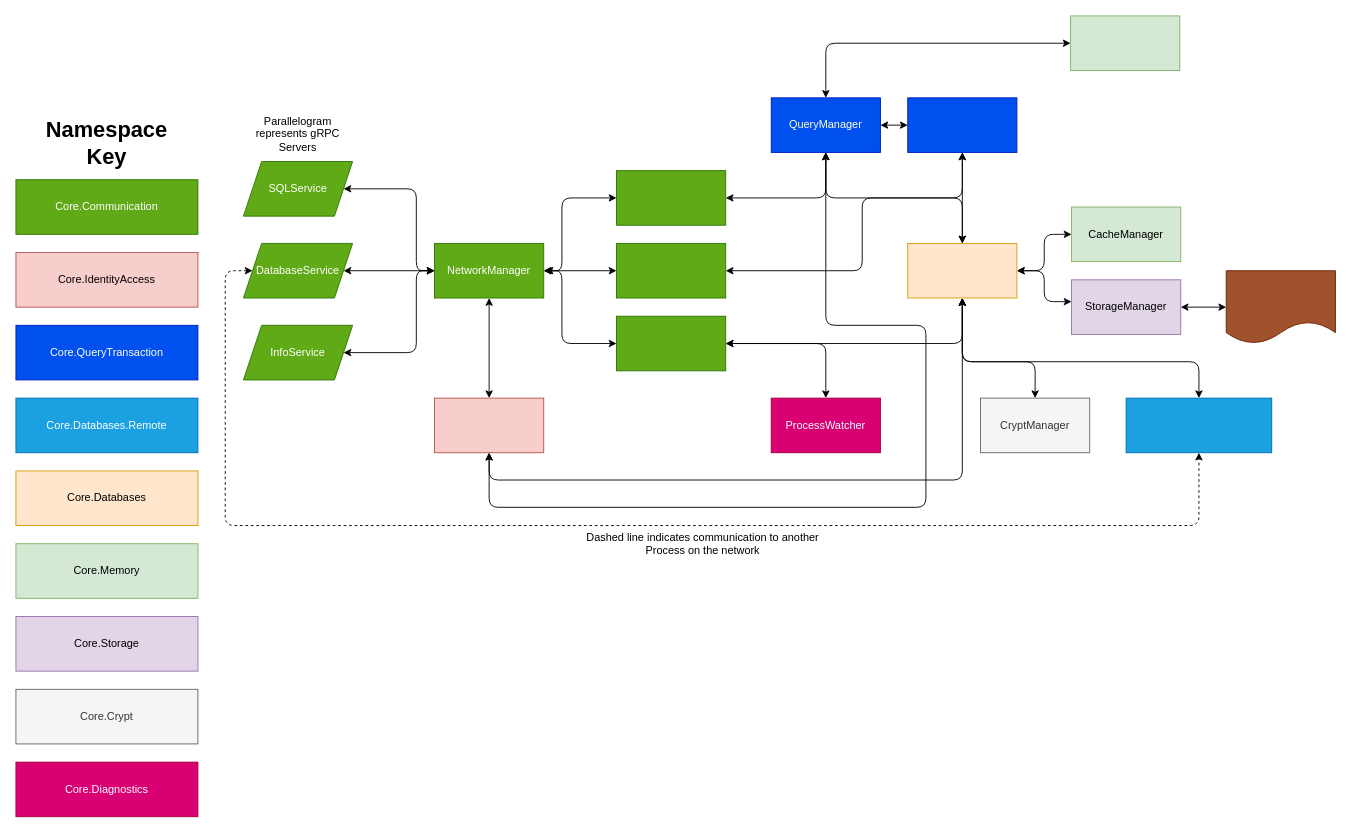
This 1351x833 diagram has some shape labels left out. The shapes that lost their labels are listed below. From the top down, each one's centre as x and y in pixels, then its label:
At pixel 1125 43: "Query Plan Cache".
At pixel 962 124: "TransactionManager".
At pixel 671 197: "SQLHandler".
At pixel 671 270: "DatabaseHandler".
At pixel 962 270: "DatabaseManager".
At pixel 1280 307: "Files On Disk".
At pixel 671 343: "InfoHandler".
At pixel 489 425: "AuthManager".
At pixel 1198 425: "RemoteDataManager".
